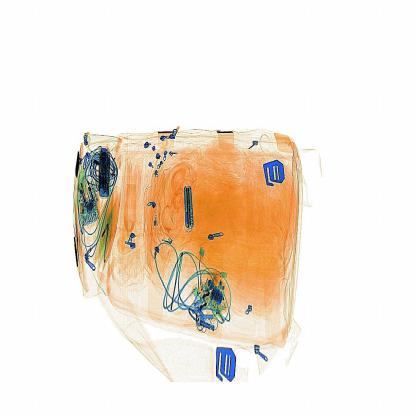scissors: (172, 175, 203, 235)
